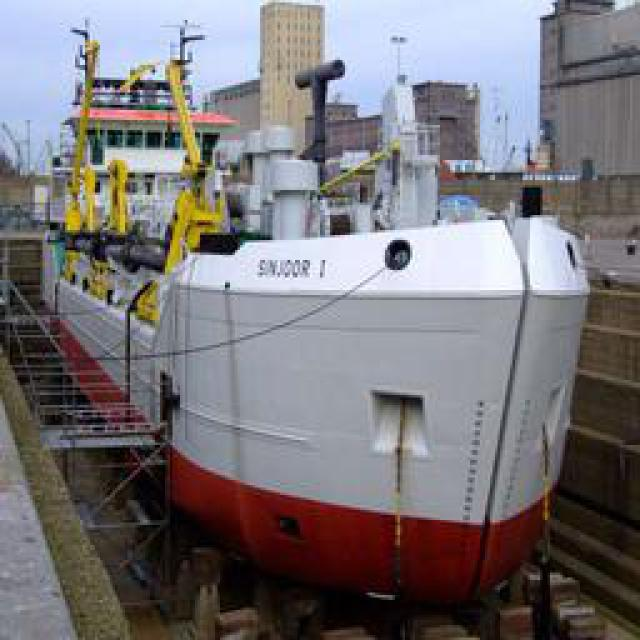Ship: (36, 16, 592, 610)
